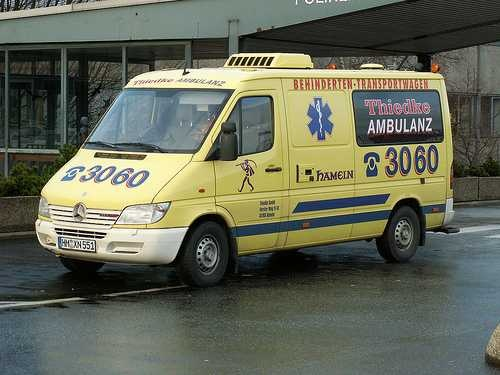Ambulance: (35, 47, 459, 298)
